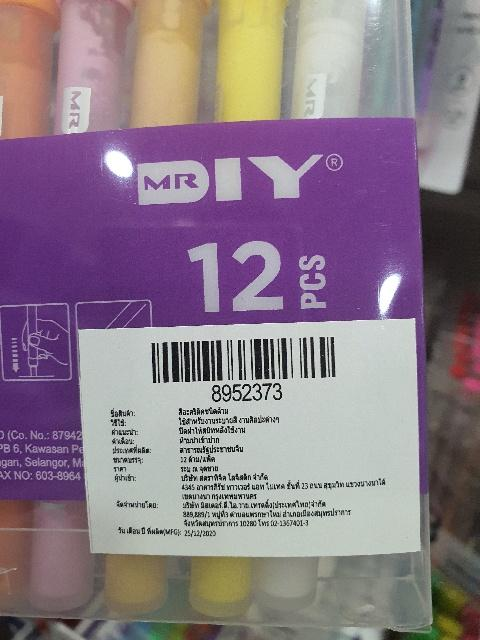Barcode: (147, 333, 344, 406)
